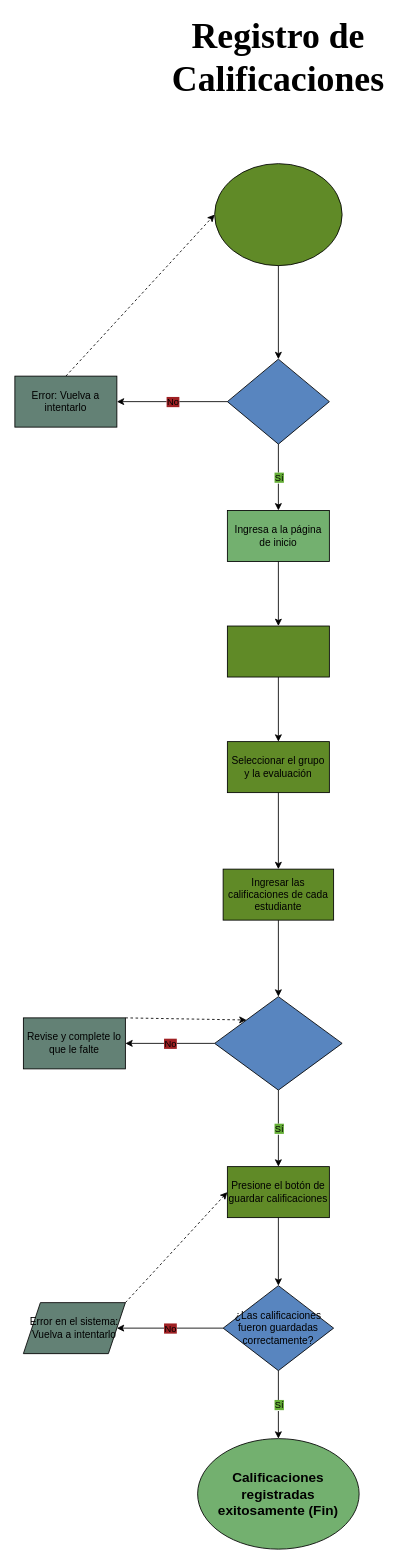
The diagram is 400 pixels wide and 1564 high, and some of its shapes have lost their labels. The centre of each missing label's shape, as x and y in pixels:
"Inciar sesión con el usuario de docente" belongs at (x=278, y=214).
"Ir a la página de calificaciones" belongs at (x=278, y=651).
"¿Las credenciales son correctas?" belongs at (x=278, y=401).
"¿Todas las calificaciones fueron ingresadas correctamente?" belongs at (x=278, y=1043).
